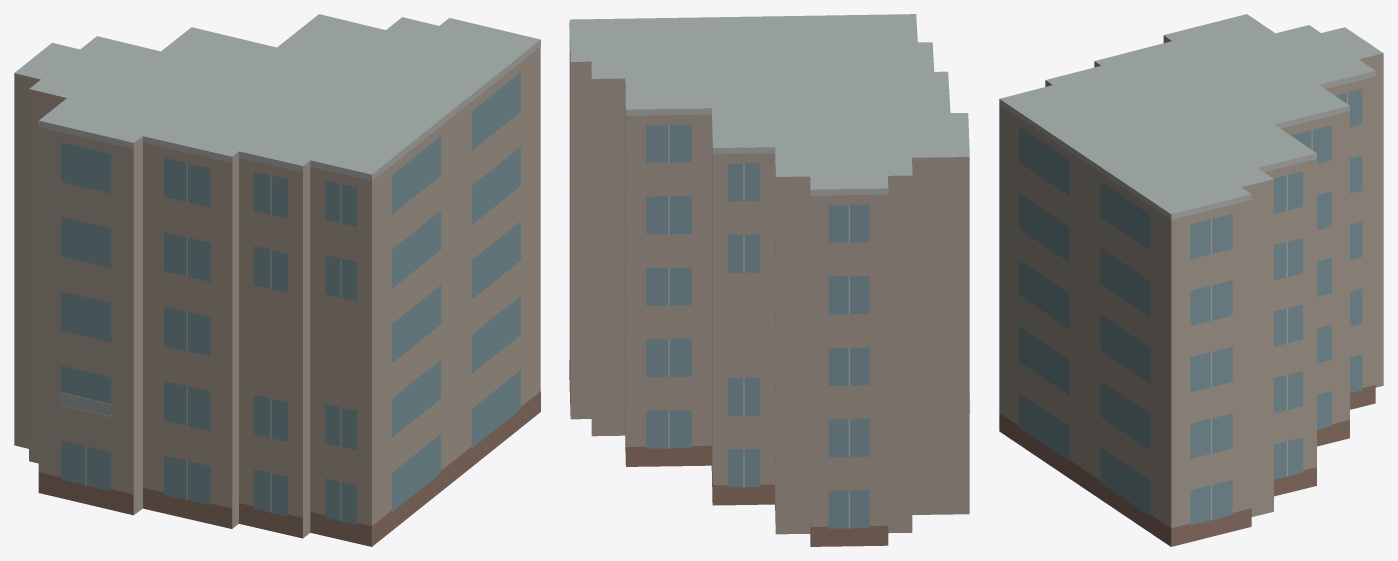
File: survey-upis-32751758.glb
The picture shows the model from 3 angles, left to right: view 1: azimuth 30°, elevation 25°; view 2: azimuth 150°, elevation 25°; view 3: azimuth 270°, elevation 25°; orthographic projection. The views are drawn at different scales.
Visible parts, largest first — view 1: survey-upis-32751758.tmp; view 2: survey-upis-32751758.tmp; view 3: survey-upis-32751758.tmp.
Part boxes in pixels (box(x1,y1,x2,y2)): survey-upis-32751758.tmp: box(14, 14, 540, 546); survey-upis-32751758.tmp: box(569, 14, 970, 546); survey-upis-32751758.tmp: box(999, 14, 1383, 546).
Size of the model in its own units: 18.22 by 14.1 by 14.77.
